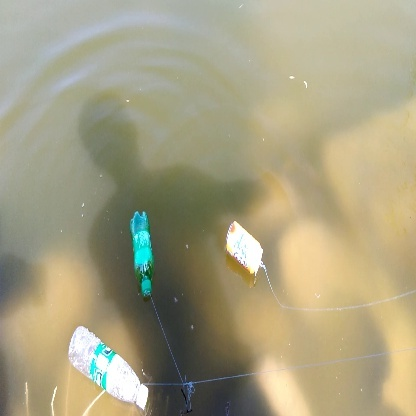bottle: (61, 322, 153, 412), (126, 211, 164, 293), (219, 220, 271, 279)
